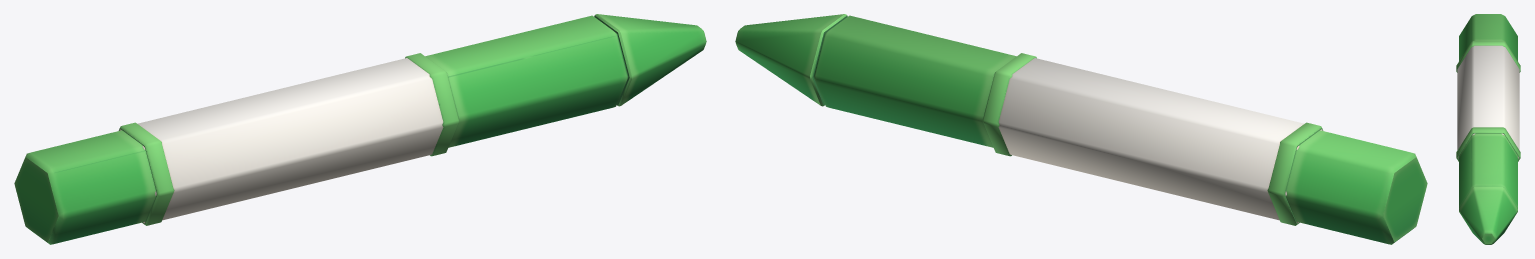
File: toy_crayon_green.glb
3 renders of one model, left to right at view 1: azimuth 30°, elevation 25°; view 2: azimuth 150°, elevation 25°; view 3: azimuth 270°, elevation 25°, orthographic. The views are drawn at different scales.
Parts seen in each view (by area): view 1: prop; view 2: prop; view 3: prop.
Part boxes in pixels (x1,y1,x2,y2): prop: (14,14,706,244); prop: (735,14,1427,244); prop: (1456,14,1520,244).
Bounding box in the file's own units: 7 × 0.8314 × 0.94.
1 material, 1 textured.
